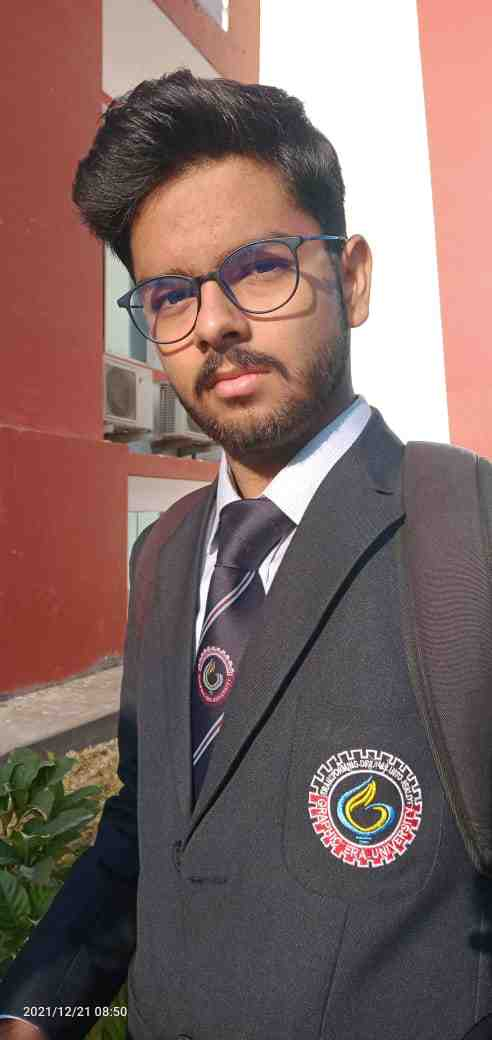blazer: (2, 390, 488, 1039)
tie: (175, 495, 290, 803)
